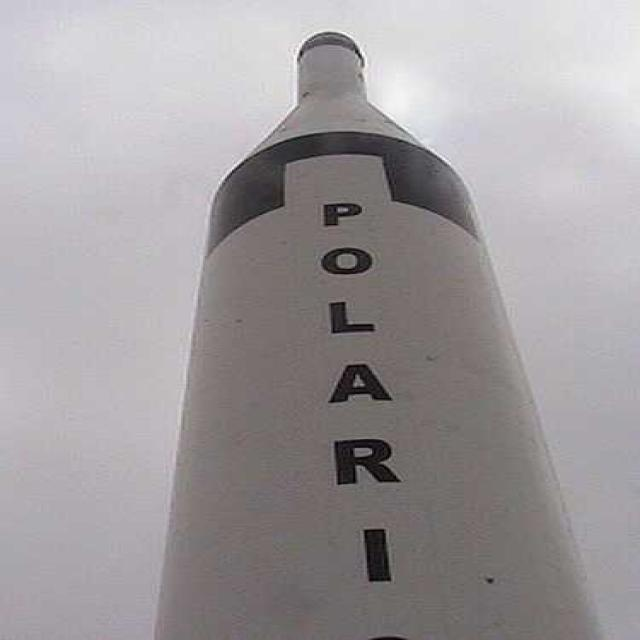missile: (147, 27, 615, 640)
